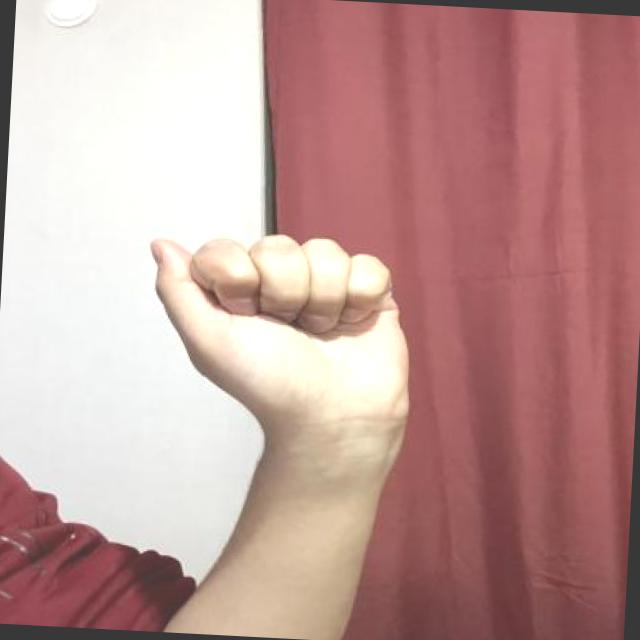A: (134, 224, 430, 436)
